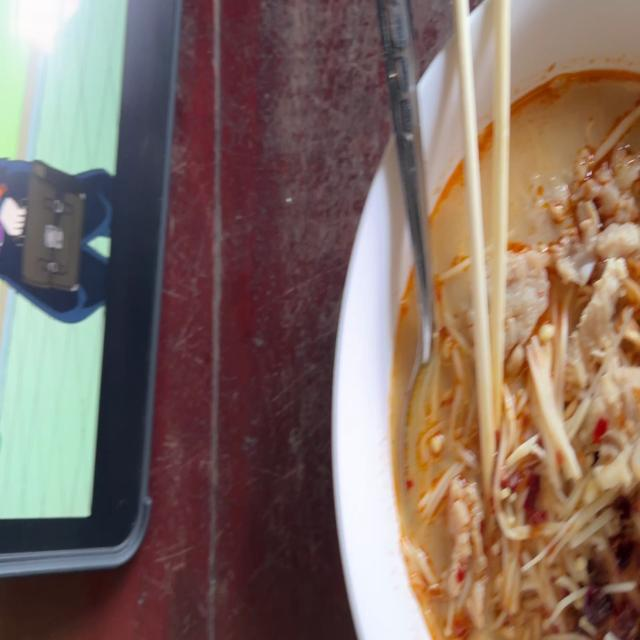noodle: (388, 61, 640, 640)
